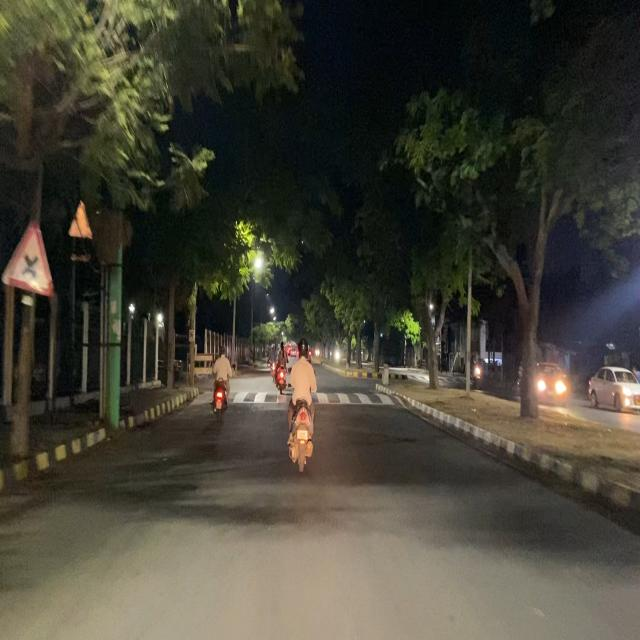bien_cam: (0, 216, 54, 299)
